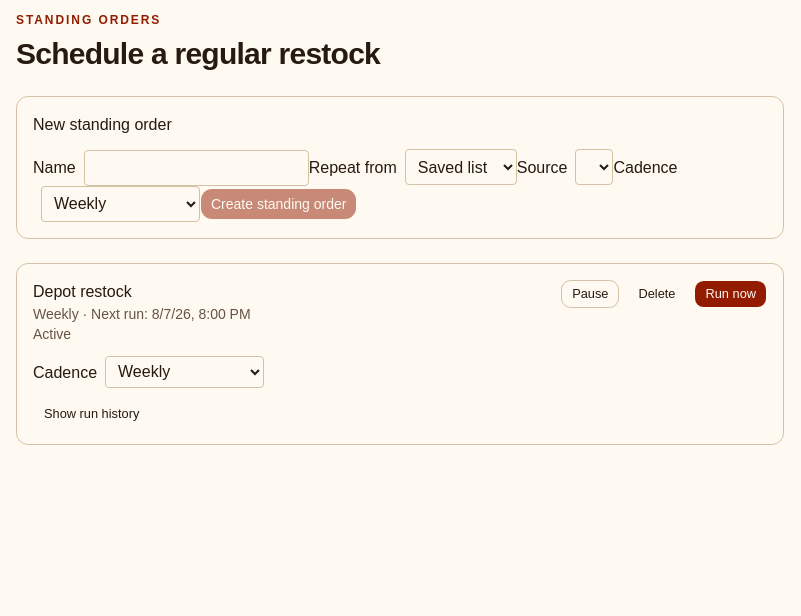
Standing orders journey › releases Run now after history and update requests start during a deferred run
Click the button "Run now" at {"x": 731, "y": 294}, box [694, 280, 767, 308]
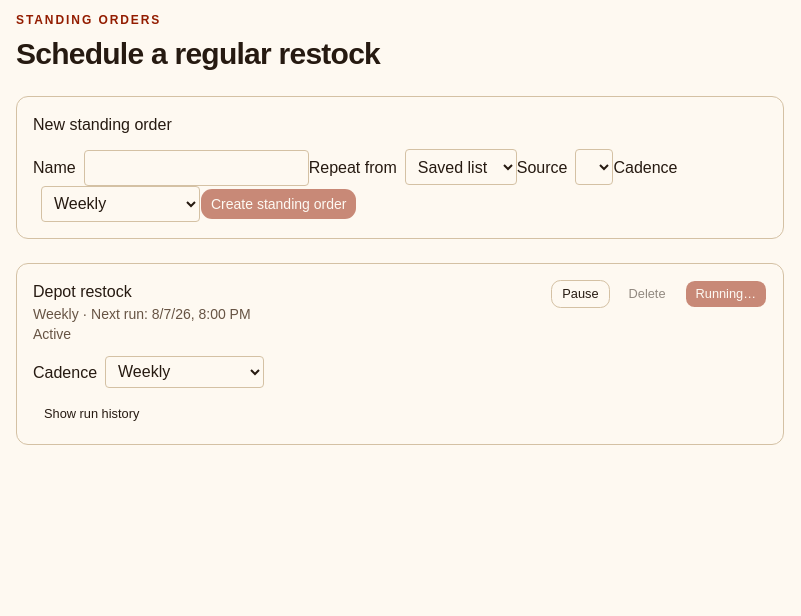
Click the button "Show run history" at {"x": 92, "y": 414}, box [33, 400, 150, 428]
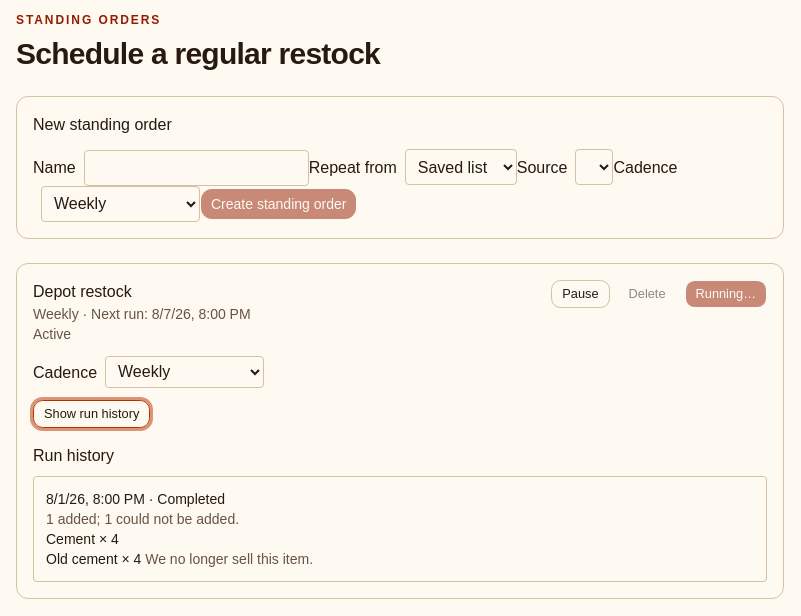
Click the button "Pause" at {"x": 580, "y": 294}, box [551, 280, 610, 308]
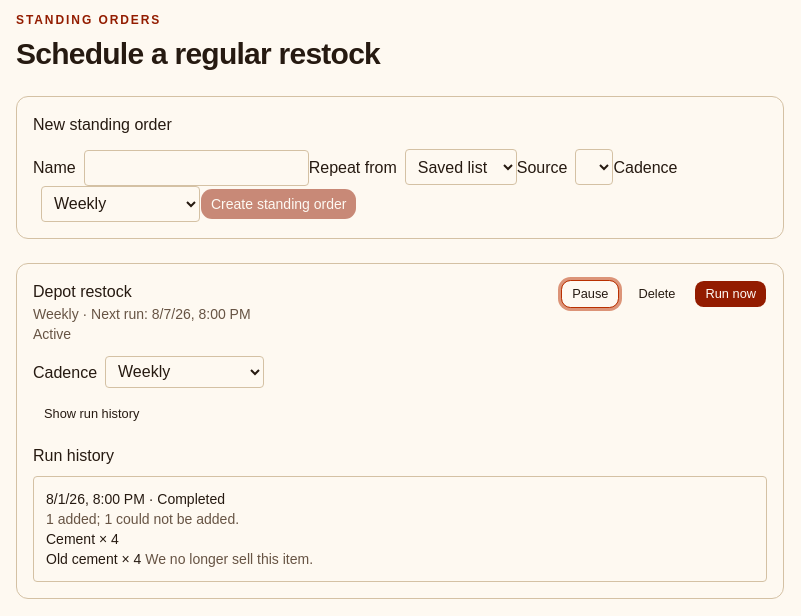
Check: the button "Run now" is enabled, box [694, 280, 767, 308]
